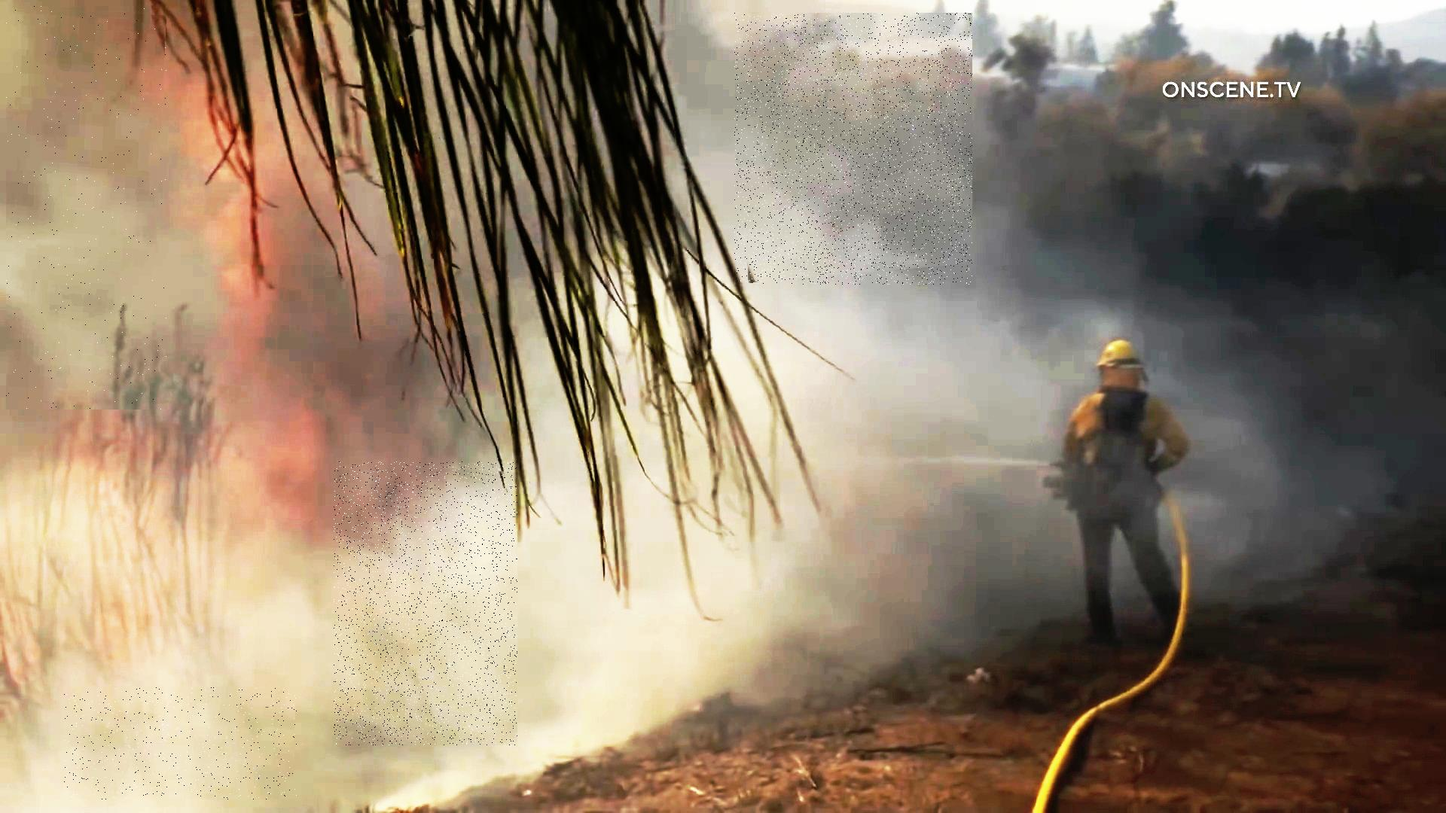smoke: (6, 6, 167, 410), (734, 13, 972, 285), (334, 462, 517, 745), (65, 687, 297, 800)
